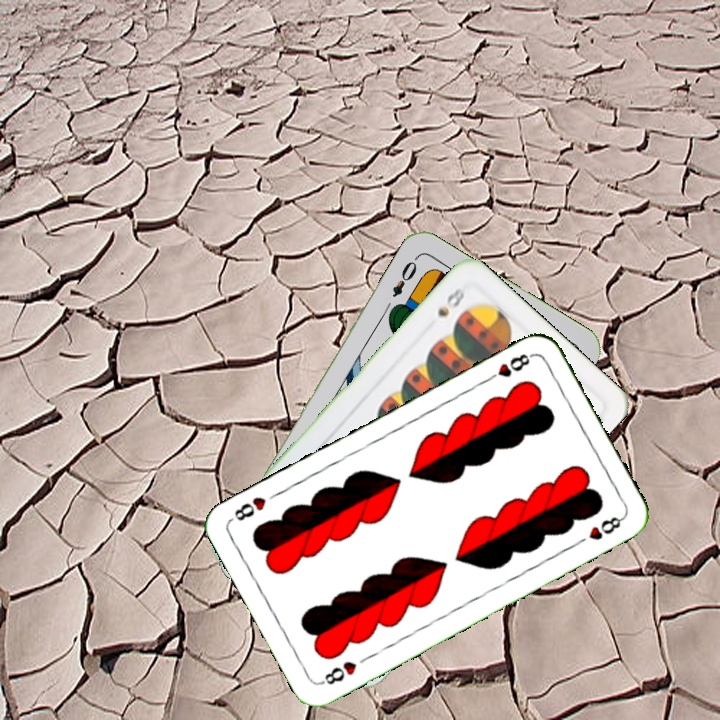EO: (388, 252, 421, 300)
H8: (482, 349, 536, 385), (317, 657, 360, 688)
S8: (433, 280, 468, 320)
